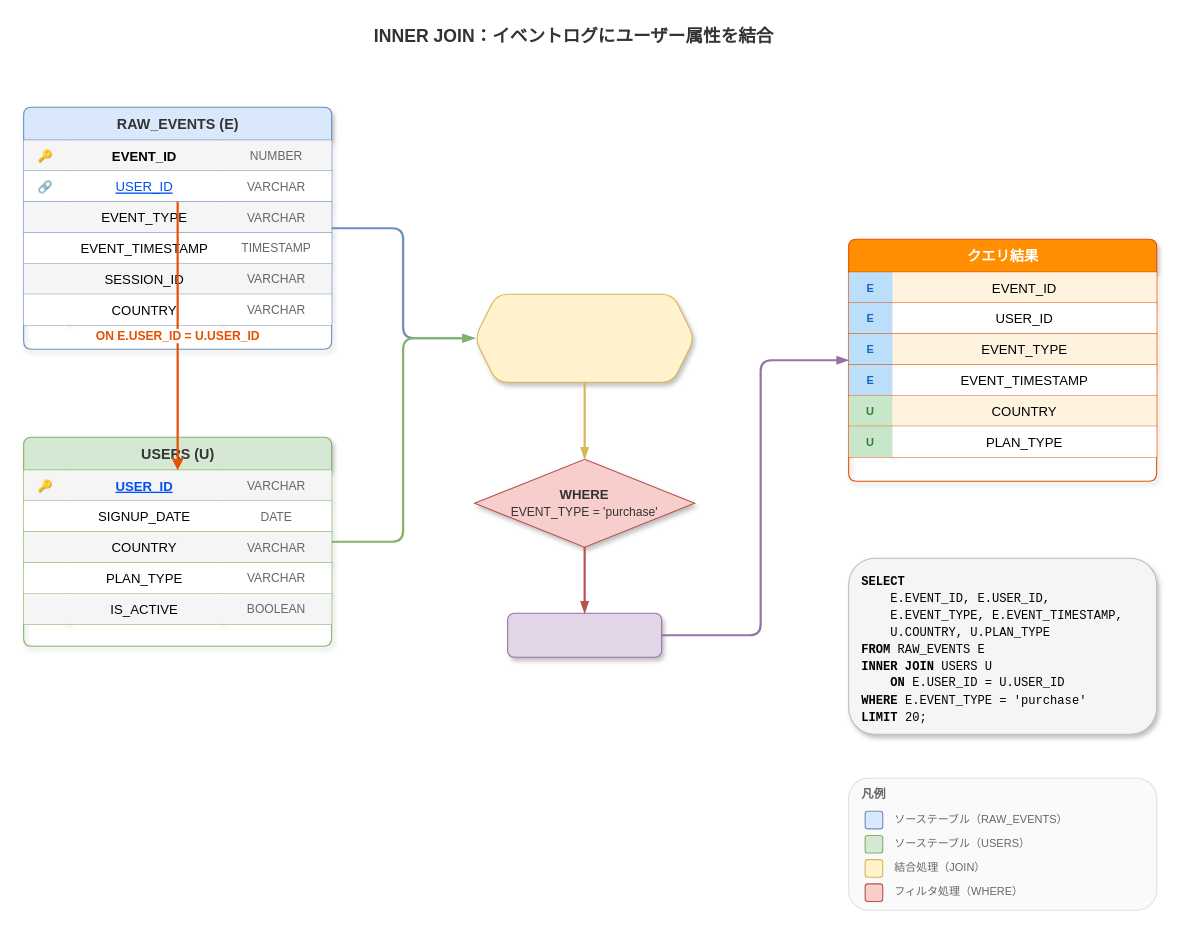
The diagram is 1183 pixels wide and 930 high, and some of its shapes have lost their labels. Here are the shapes that lost their labels. From the top down, the centre of each, then its label:
(x=585, y=339): INNER JOIN 両テーブルに存在する レコードのみ結合
(x=585, y=636): LIMIT 20
